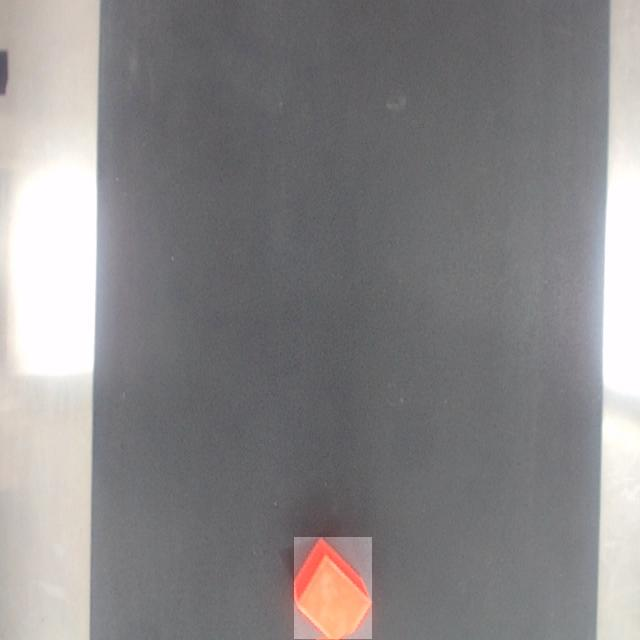Rojo: (295, 538, 372, 640)
